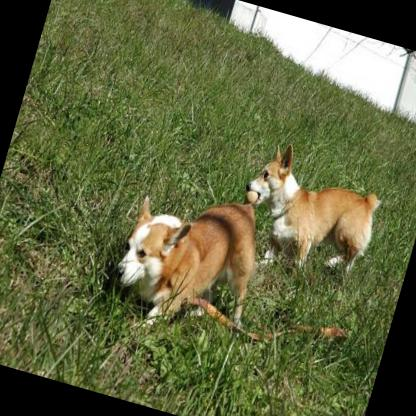Pembroke: (101, 169, 273, 351), (226, 134, 391, 289)
